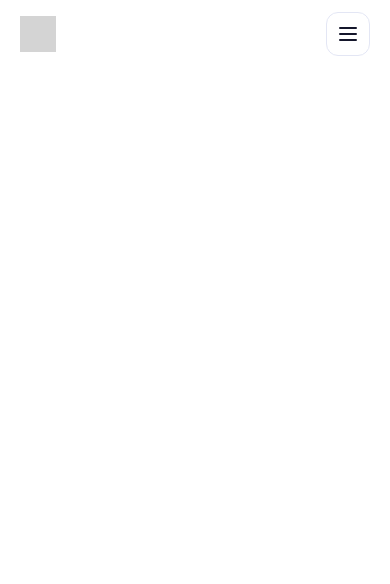
Test: Navbar › toggles the mobile menu
Click the button named "open menu".
click(348, 34)  # box [326,12,370,56]
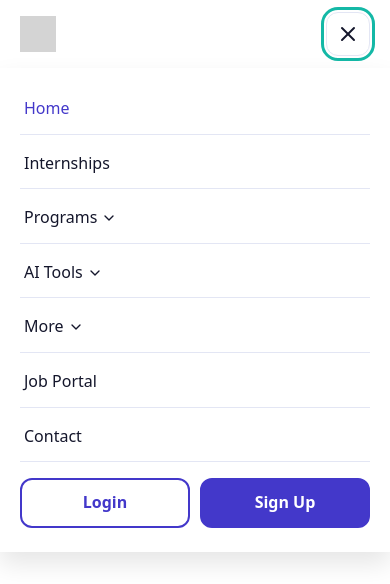
Now the button named "close menu" is expanded, box [326,12,370,56]
